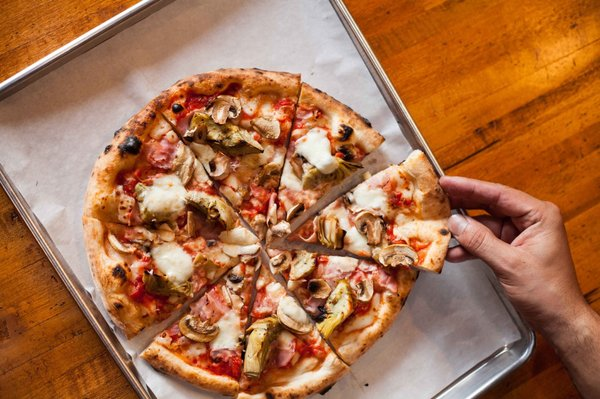curry: (2, 1, 590, 395)
sandwich: (78, 68, 451, 394), (278, 151, 457, 273)
